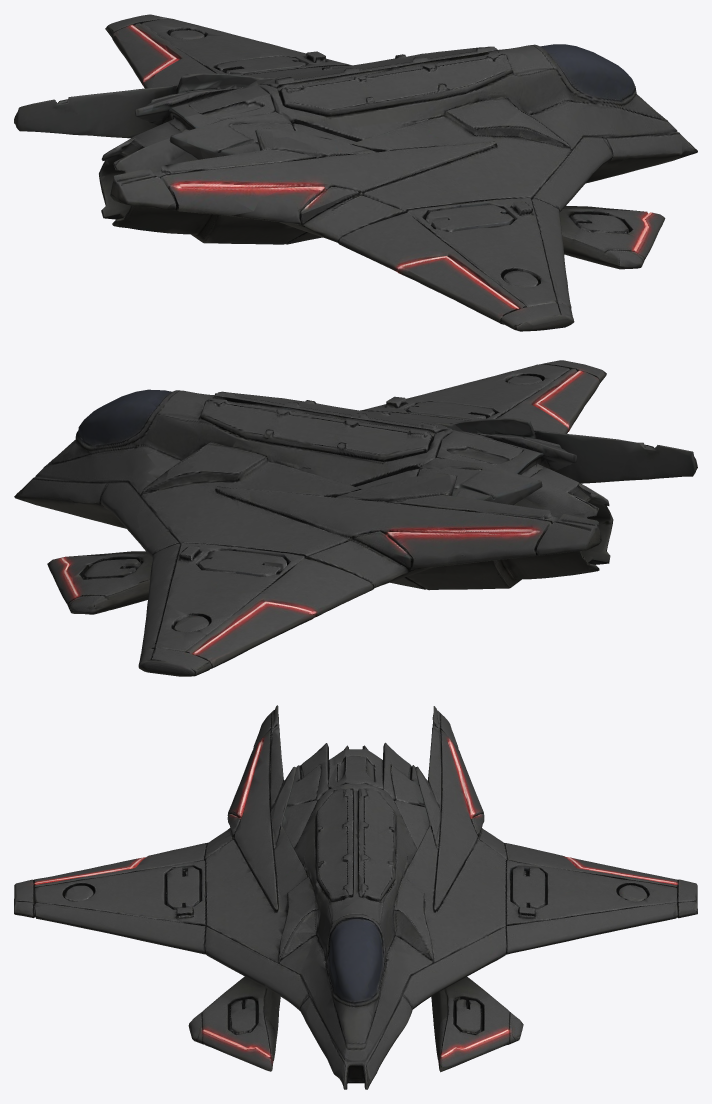
Rendered from futuristic+jet+3d+model_Clone1.glb.
3 renders of one model, top to bottom at view 1: azimuth 30°, elevation 25°; view 2: azimuth 150°, elevation 25°; view 3: azimuth 270°, elevation 25°, orthographic. The views are drawn at different scales.
Visible parts, largest first — view 1: tripo_node_75addb98-4215-409f-8e14-e05640d29c95; view 2: tripo_node_75addb98-4215-409f-8e14-e05640d29c95; view 3: tripo_node_75addb98-4215-409f-8e14-e05640d29c95.
Part boxes in pixels (<box>): tripo_node_75addb98-4215-409f-8e14-e05640d29c95: <box>14,14,697,331</box>; tripo_node_75addb98-4215-409f-8e14-e05640d29c95: <box>14,360,697,676</box>; tripo_node_75addb98-4215-409f-8e14-e05640d29c95: <box>14,705,697,1089</box>.
Bounding box in the file's own units: 0.8801 × 0.2435 × 1.
1 material, 1 textured.
